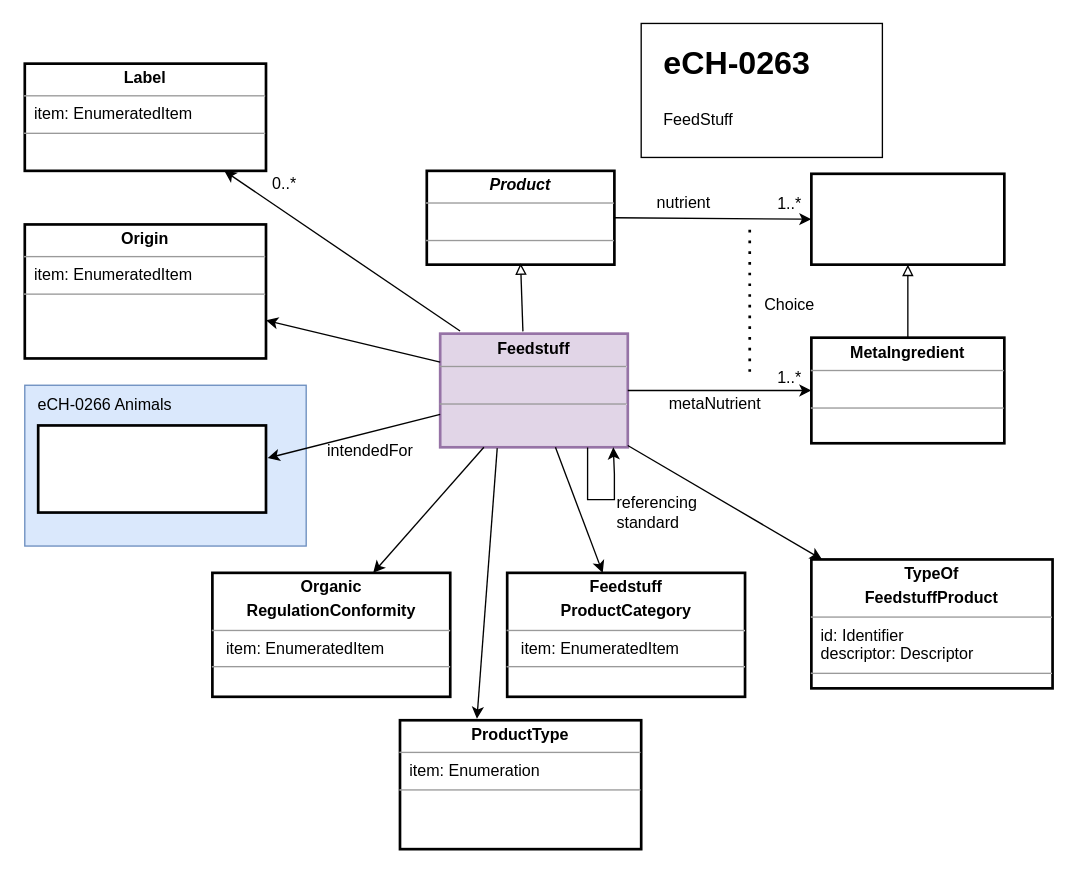
Image size: 1076x874. Some labels were removed from this diagram. The centre of each missing label's shape, as x and y in pixels:
Ingredient: pixel 907 218
ZoologicalAnimal: pixel 151 468
